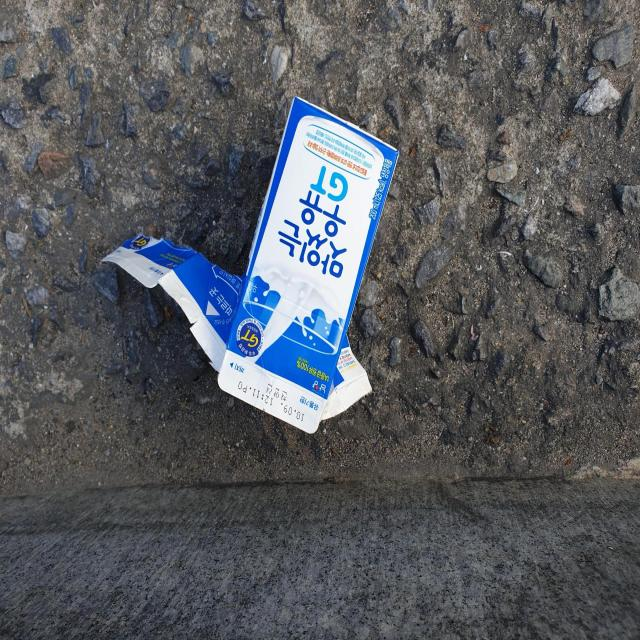paperpack: (104, 96, 399, 434)
